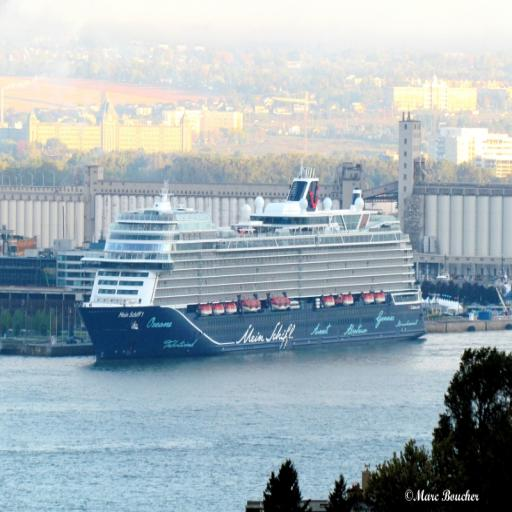cruises: (74, 168, 430, 373)
